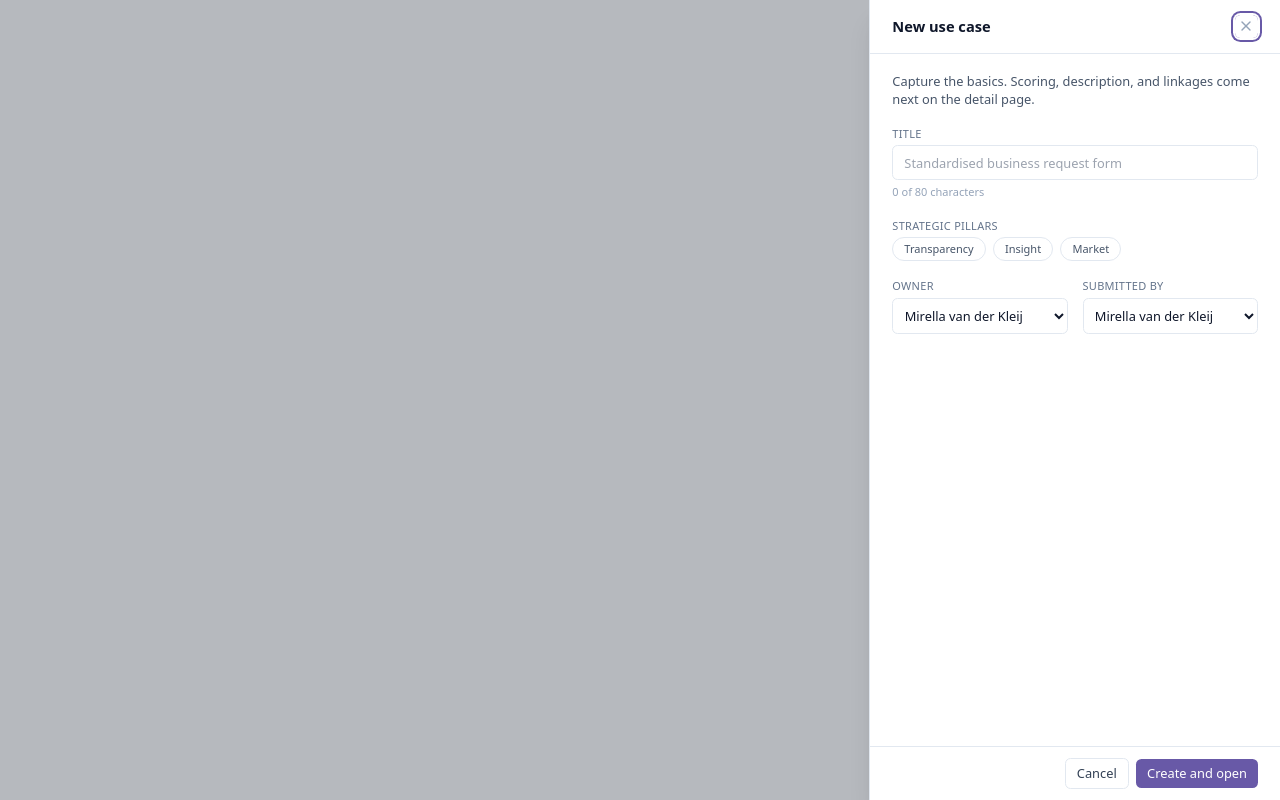
it: UseCaseForm › rejects submission with an empty title
This screenshot has width=1280, height=800.
Click the button "Create and open": click(1197, 773) [1136,759,1258,788]
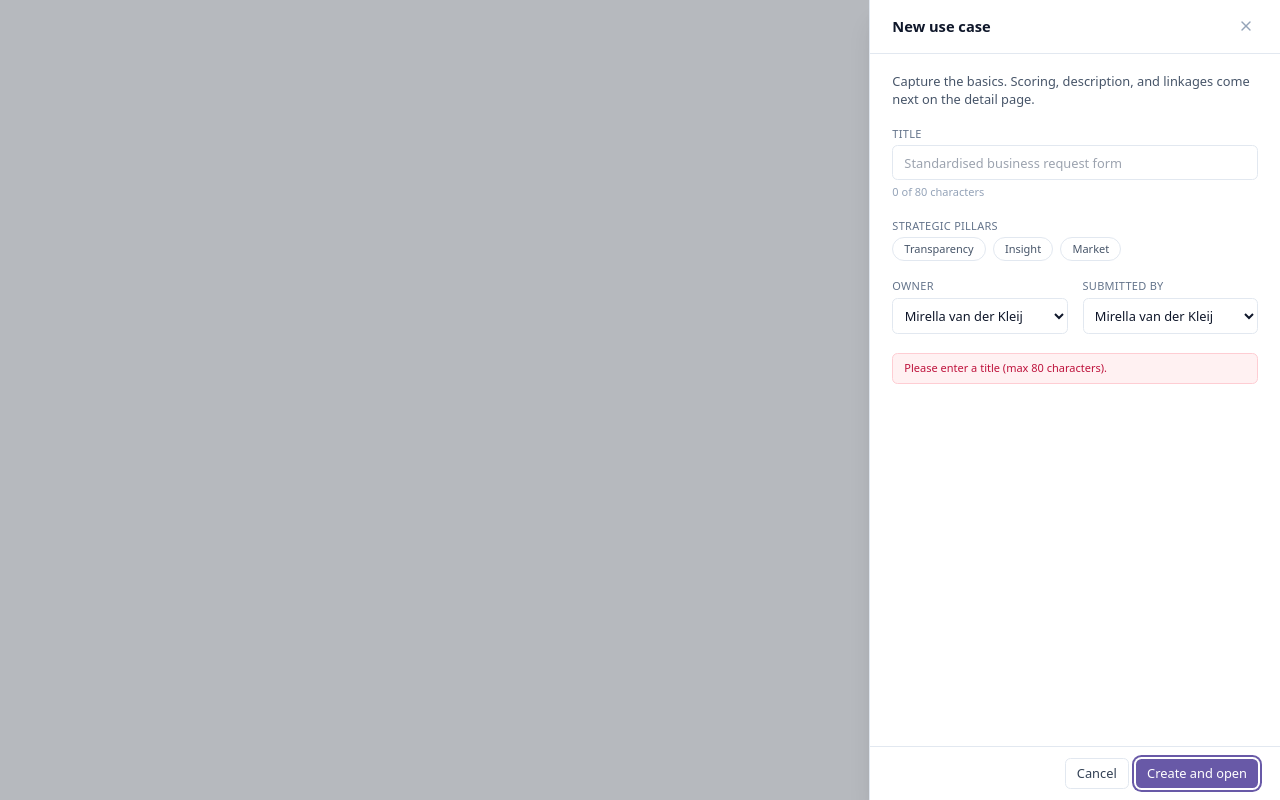
Expected: the text "Please enter a title (max 80 characters)." is shown, [892,353,1258,384]
